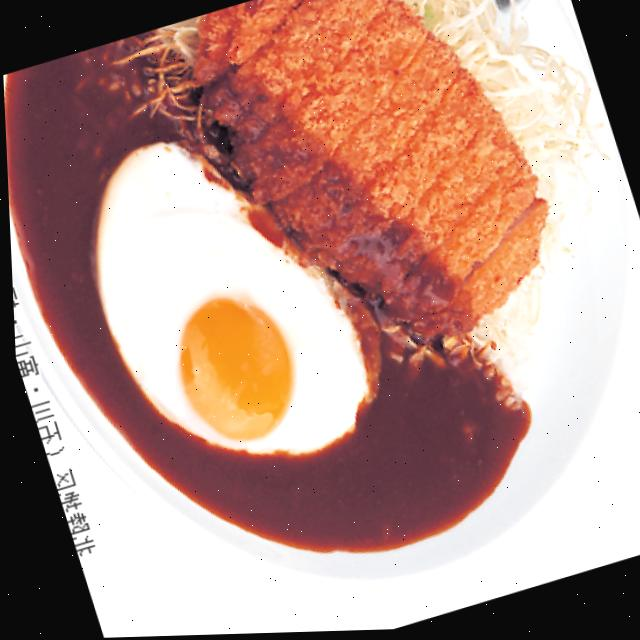鸡蛋料理: (37, 75, 428, 548)
